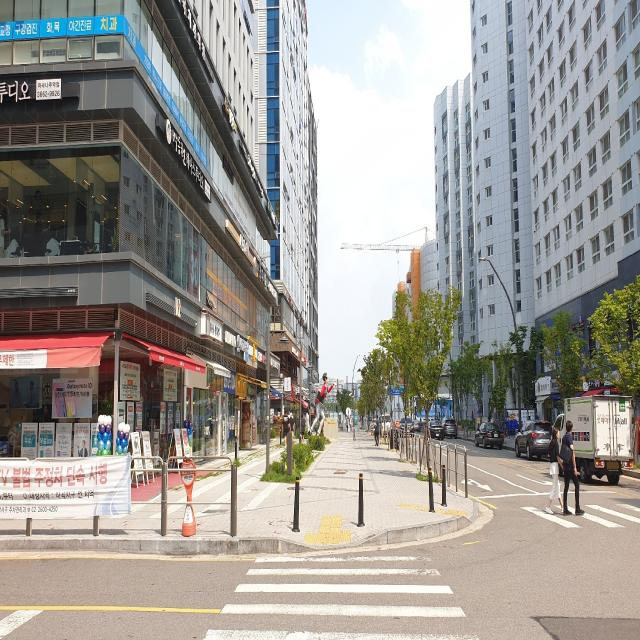횡단보도: (202, 555, 480, 640), (516, 495, 640, 528)
